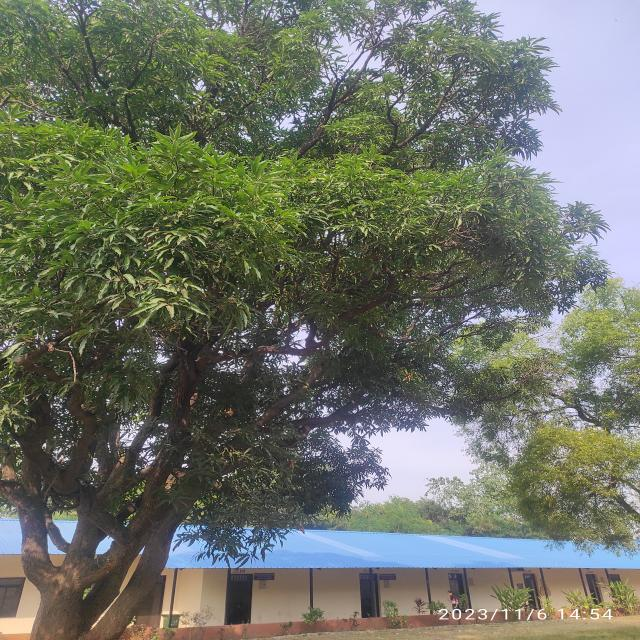Mango Tree: (18, 19, 428, 598), (431, 10, 516, 19)
